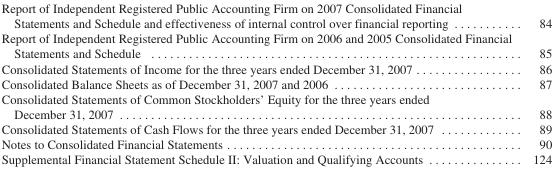table: (0, 0, 551, 166)
table column: (0, 0, 521, 166), (521, 0, 551, 166)
table row: (0, 90, 551, 121), (0, 0, 551, 30), (0, 30, 551, 60), (0, 60, 551, 75), (0, 75, 551, 90), (0, 121, 551, 136), (0, 136, 551, 151), (0, 151, 551, 166)
